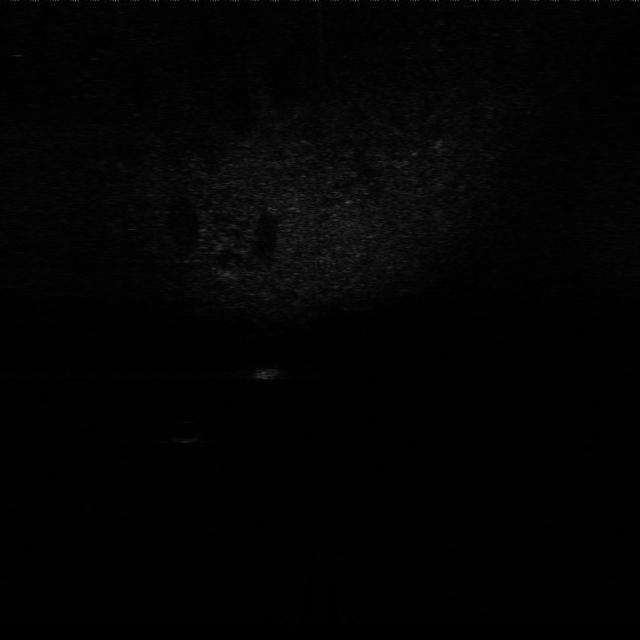ball: (170, 416, 206, 444)
cube: (250, 360, 286, 384)
